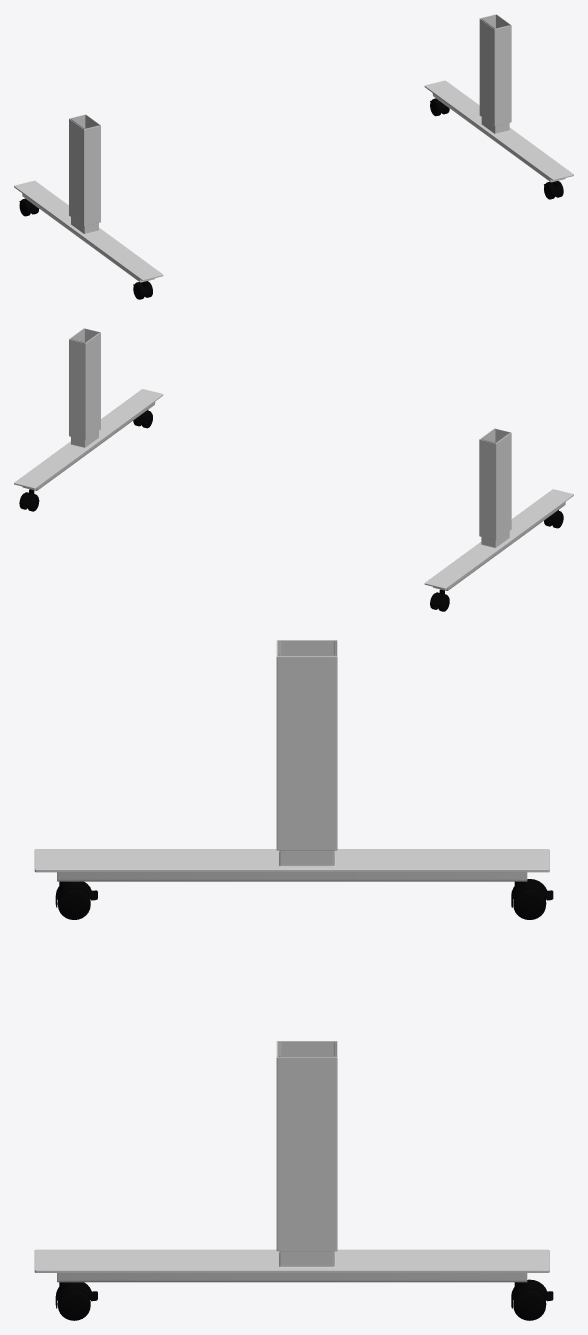
The model's file is DeskBottom.obj.
The picture shows the model from 3 angles, top to bottom: view 1: azimuth 30°, elevation 25°; view 2: azimuth 150°, elevation 25°; view 3: azimuth 270°, elevation 25°; orthographic projection. The views are drawn at different scales.
Visible parts, largest first — view 1: SM_Schreibtisch_Unten_5; view 2: SM_Schreibtisch_Unten_5; view 3: SM_Schreibtisch_Unten_5.
Part boxes in pixels (left/top/right/bottom): SM_Schreibtisch_Unten_5: left=14, top=14, right=573, bottom=299; SM_Schreibtisch_Unten_5: left=14, top=328, right=573, bottom=611; SM_Schreibtisch_Unten_5: left=34, top=640, right=553, bottom=1320.
Bounding box in the file's own units: 134 × 39.39 × 69.46.
2 materials, 2 textured.
